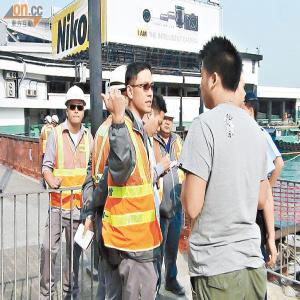none: (197, 38, 245, 110), (126, 61, 154, 113), (145, 96, 167, 139)
white: (65, 85, 87, 128), (160, 103, 176, 137), (45, 115, 53, 129), (52, 115, 60, 128)
